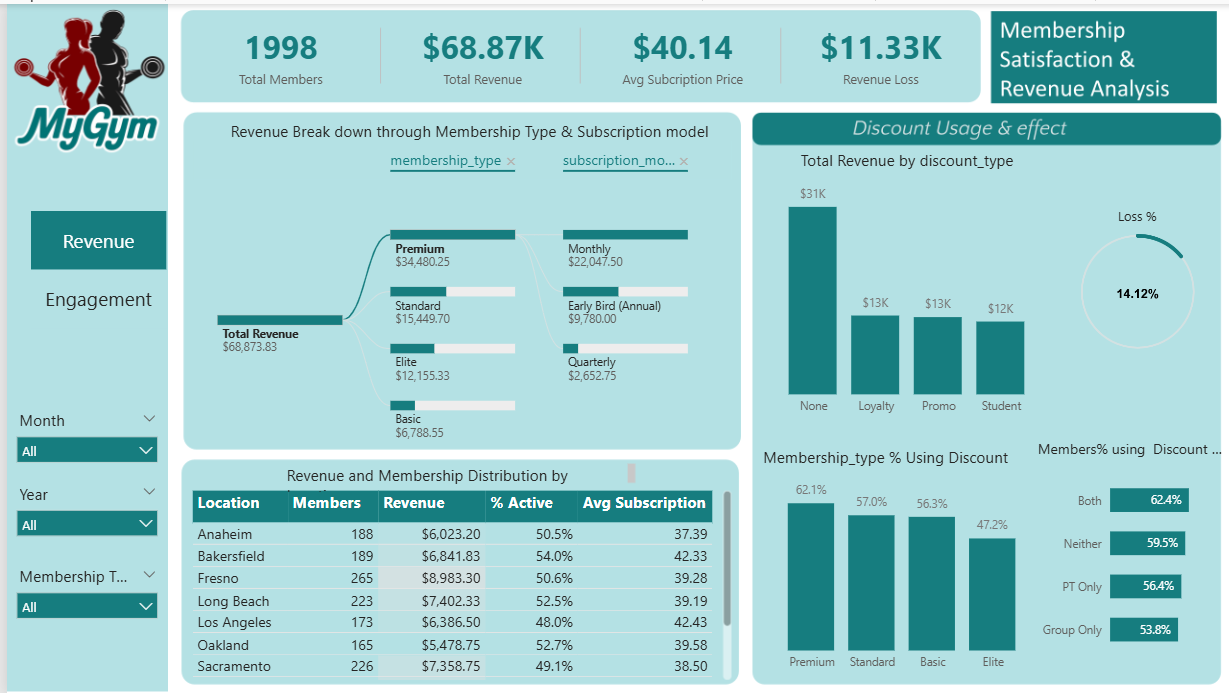

What the dashboard file says about the page in this screenshot:
{"tool":"powerbi","page":{"name":"Revenue","canvas":[1280,720],"ordinal":0},"visuals":[{"type":"clusteredColumnChart","fields":{"Y":["All_Measures.Total Revenue"],"Category":["Fitness_Membership_Analytics_Dataset.discount_type"]},"box":[783.8,151.7,309.9,284.8],"z":0},{"type":"tableEx","fields":{"Values":["Fitness_Membership_Analytics_Dataset.home_gym_location","All_Measures.Total Members","All_Measures.Total Revenue","All_Measures.% Active","Avg(Fitness_Membership_Analytics_Dataset.subscription_price)"]},"box":[187.4,502.3,572.4,207.8],"z":1000},{"type":"clusteredColumnChart","title":"Membership_type % Using Discount ","fields":{"Y":["All_Measures.% Members Using Discount"],"Category":["Fitness_Membership_Analytics_Dataset.membership_type"]},"box":[783.8,461.8,299.6,242.2],"z":2000},{"type":"card","title":"Revenue Loss","fields":{"Values":["All_Measures.Revenue Loss"]},"box":[812.1,13.2,194.8,80.9],"z":3000},{"type":"payPalKPIDonutChart55A431AB15A540ED924ACD72ED8D259F","fields":{"myvalue":["All_Measures.% Revenue Loss"]},"box":[1090.1,210.7,176.6,158.4],"z":4000},{"type":"decompositionTreeVisual","fields":{"ExplainBy":["Fitness_Membership_Analytics_Dataset.membership_type","Fitness_Membership_Analytics_Dataset.subscription_model"],"Analyze":["All_Measures.Total Revenue"]},"box":[188.7,137.7,571.2,377.4],"z":5000},{"type":"card","fields":{"Values":["All_Measures.Total Members"]},"box":[187.8,13.2,194.8,80.9],"z":6000},{"type":"card","fields":{"Values":["All_Measures.Total Revenue"]},"box":[398.6,13.2,193.7,80.9],"z":7000},{"type":"card","fields":{"Values":["All_Measures.Avg Subcription Price"]},"box":[608.2,13.2,191.4,80.9],"z":8000},{"type":"clusteredBarChart","title":"Members% using  Discount by Engagement Segment","fields":{"Category":["Fitness_Membership_Analytics_Dataset.Engagement Segment"],"Y":["All_Measures.% Members Using Discount"]},"box":[1069.6,452.6,202.7,235.9],"z":9000},{"type":"pageNavigator","box":[25,215,141.7,123.3],"z":10000},{"type":"slicer","fields":{"Values":["dimdates.MonthLongName"]},"box":[0,417.1,167.1,70],"z":11000},{"type":"slicer","fields":{"Values":["dimdates.CalendarYear"]},"box":[0,494.3,167.1,70],"z":12000},{"type":"slicer","fields":{"Values":["Fitness_Membership_Analytics_Dataset.membership_type"]},"box":[0,580,167.1,70],"z":13000},{"type":"textbox","box":[228.2,116,531.6,39.5],"z":14000},{"type":"textbox","box":[285.6,474.3,373.5,39.5],"z":15000}]}

Visuals, with their boxes in screenshot pixels (x1, y1, x2, y2), scaled from the page's 1280x720 canvas onto the 1229x693 screenshot:
clusteredColumnChart - All_Measures.Total Revenue x Fitness_Membership_Analytics_Dataset.discount_type: x1=753, y1=146, x2=1050, y2=420
tableEx - Fitness_Membership_Analytics_Dataset.home_gym_location x All_Measures.Total Members: x1=180, y1=483, x2=730, y2=683
"Membership_type % Using Discount " clusteredColumnChart: x1=753, y1=444, x2=1040, y2=678
"Revenue Loss" card: x1=780, y1=13, x2=967, y2=91
payPalKPIDonutChart55A431AB15A540ED924ACD72ED8D259F - All_Measures.% Revenue Loss: x1=1047, y1=203, x2=1216, y2=355
decompositionTreeVisual - Fitness_Membership_Analytics_Dataset.membership_type x Fitness_Membership_Analytics_Dataset.subscription_model: x1=181, y1=133, x2=730, y2=496
card - All_Measures.Total Members: x1=180, y1=13, x2=367, y2=91
card - All_Measures.Total Revenue: x1=383, y1=13, x2=569, y2=91
card - All_Measures.Avg Subcription Price: x1=584, y1=13, x2=768, y2=91
"Members% using  Discount by Engagement Segment" clusteredBarChart: x1=1027, y1=436, x2=1222, y2=663
pageNavigator: x1=24, y1=207, x2=160, y2=326
slicer - dimdates.MonthLongName: x1=0, y1=401, x2=160, y2=469
slicer - dimdates.CalendarYear: x1=0, y1=476, x2=160, y2=543
slicer - Fitness_Membership_Analytics_Dataset.membership_type: x1=0, y1=558, x2=160, y2=626
textbox: x1=219, y1=112, x2=730, y2=150
textbox: x1=274, y1=457, x2=633, y2=495
